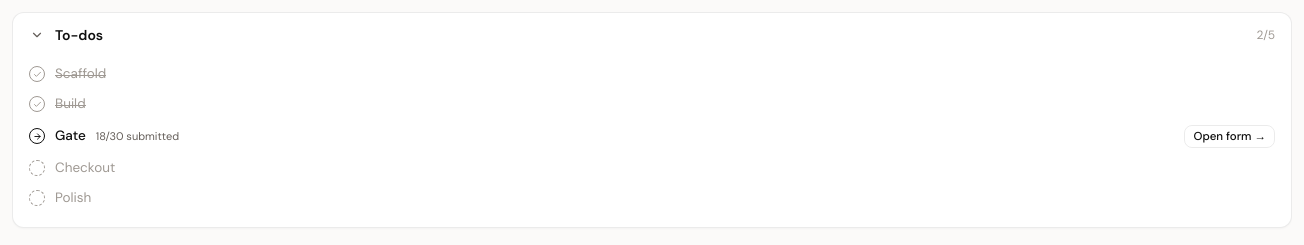
Test: ProgressTracker › toggles expansion via the header button
The width and height of the screenshot is (1304, 245).
Click the button "To-dos 2/5" at (79, 35), box left=13, top=13, right=1291, bottom=57
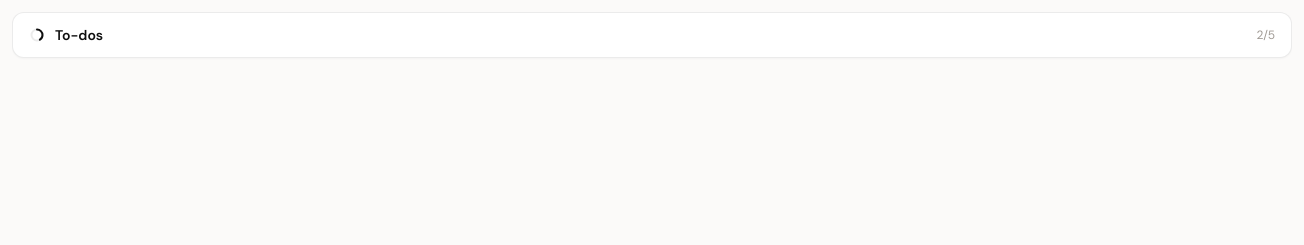
Now the button "To-dos 2/5" is collapsed, box left=13, top=13, right=1291, bottom=57
